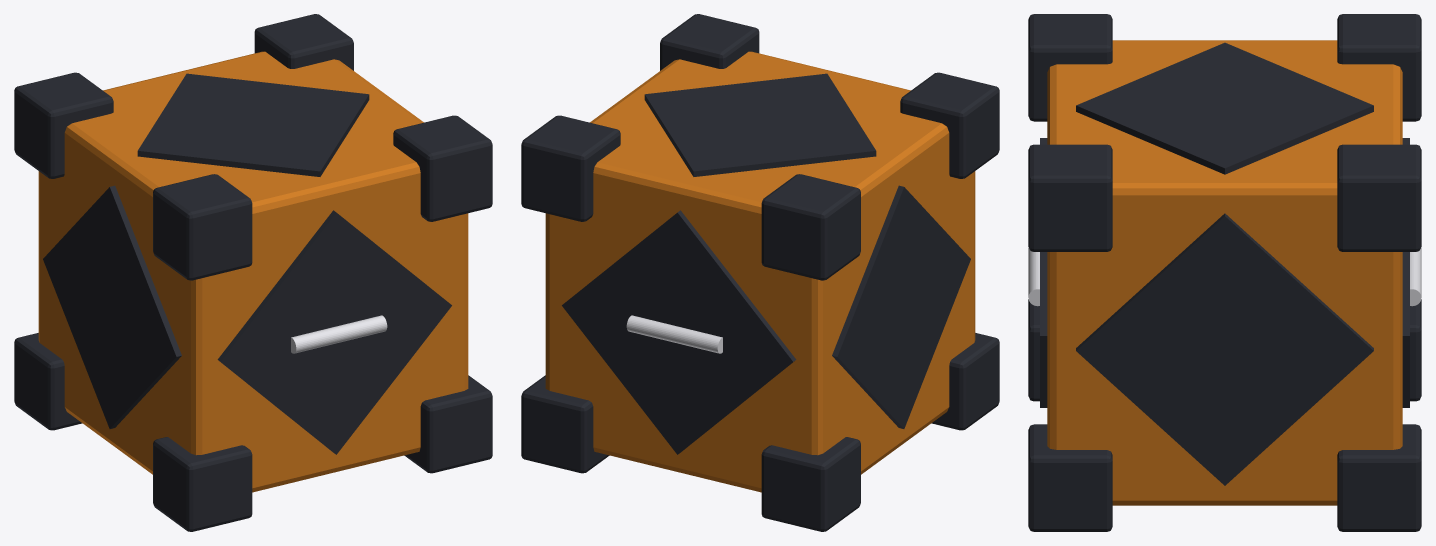
Rendered from cargo_crate.obj.
3 views of the same model, side by side, from view 1: azimuth 30°, elevation 25°; view 2: azimuth 150°, elevation 25°; view 3: azimuth 270°, elevation 25° (orthographic). The views are drawn at different scales.
Visible parts, largest first — view 1: cargo_crate; view 2: cargo_crate; view 3: cargo_crate.
Part boxes in pixels (x1,y1,x2,y2): cargo_crate: (14, 14, 492, 531); cargo_crate: (521, 14, 999, 531); cargo_crate: (1028, 14, 1421, 531).
Bounding box in the file's own units: 0.84 × 0.84 × 0.84.
